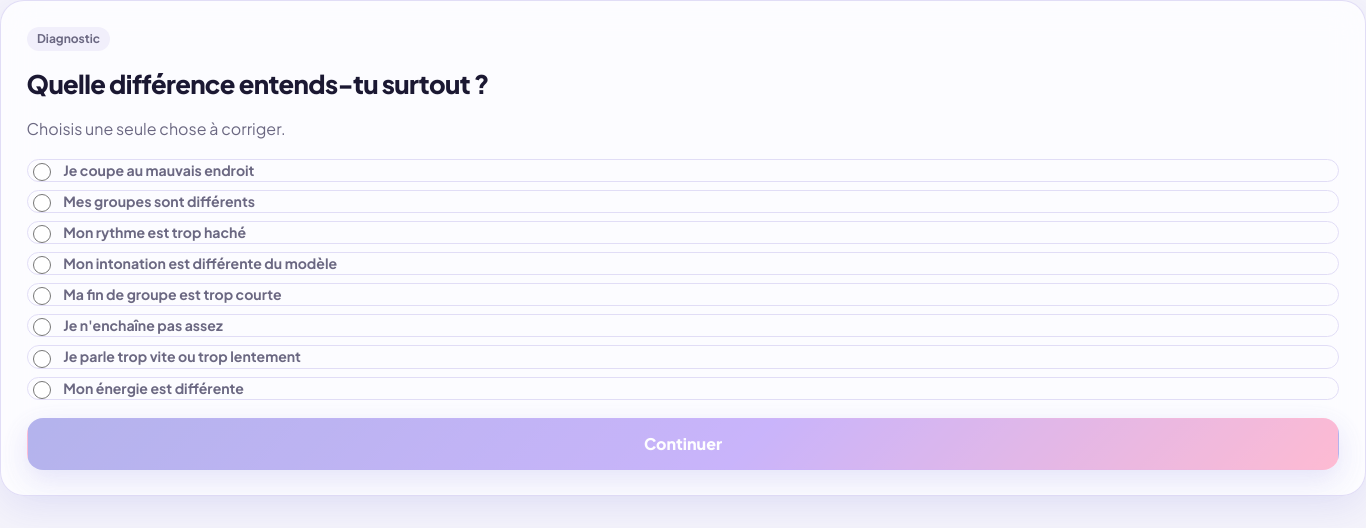
Test case: prosody comparison alignment › keeps correction disabled until a single focus is chosen
The width and height of the screenshot is (1366, 528).
expect the button "Continuer" is disabled: met, box [27,418,1339,470]
Click the radio button labelled "Je coupe au mauvais endroit" at (42, 172), box [33,163,51,181]
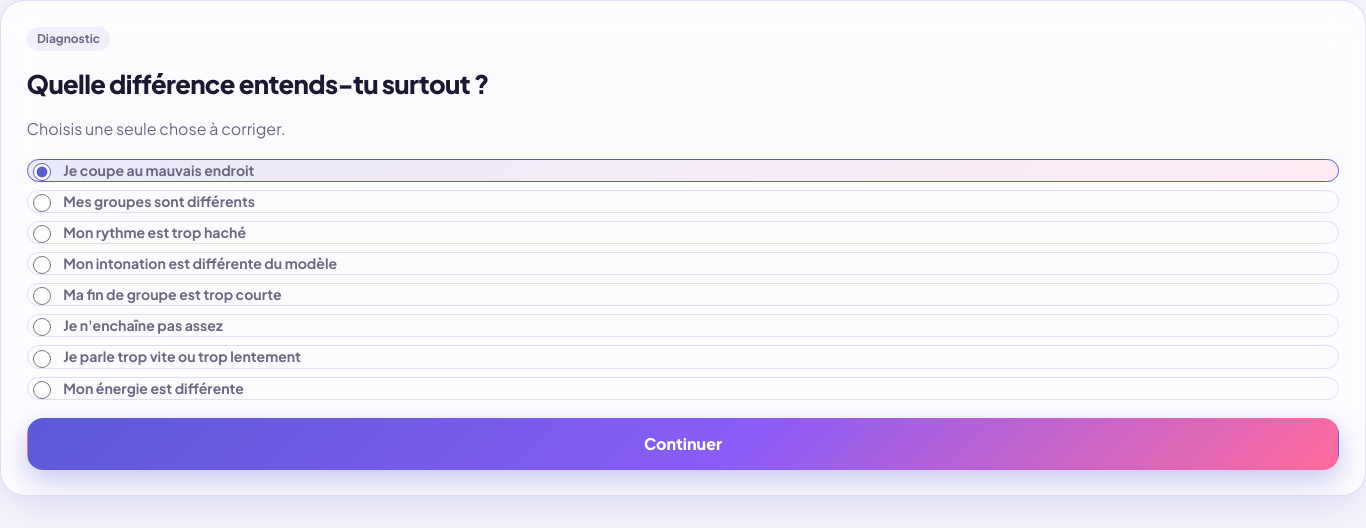
expect the button "Continuer" is enabled: met, box [27,418,1339,470]
